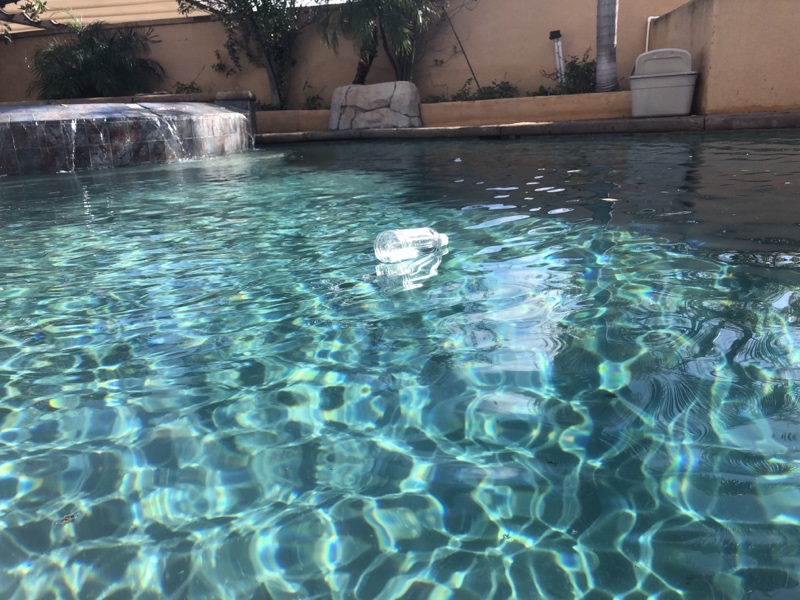Plastic Bottle: (371, 225, 453, 266)
